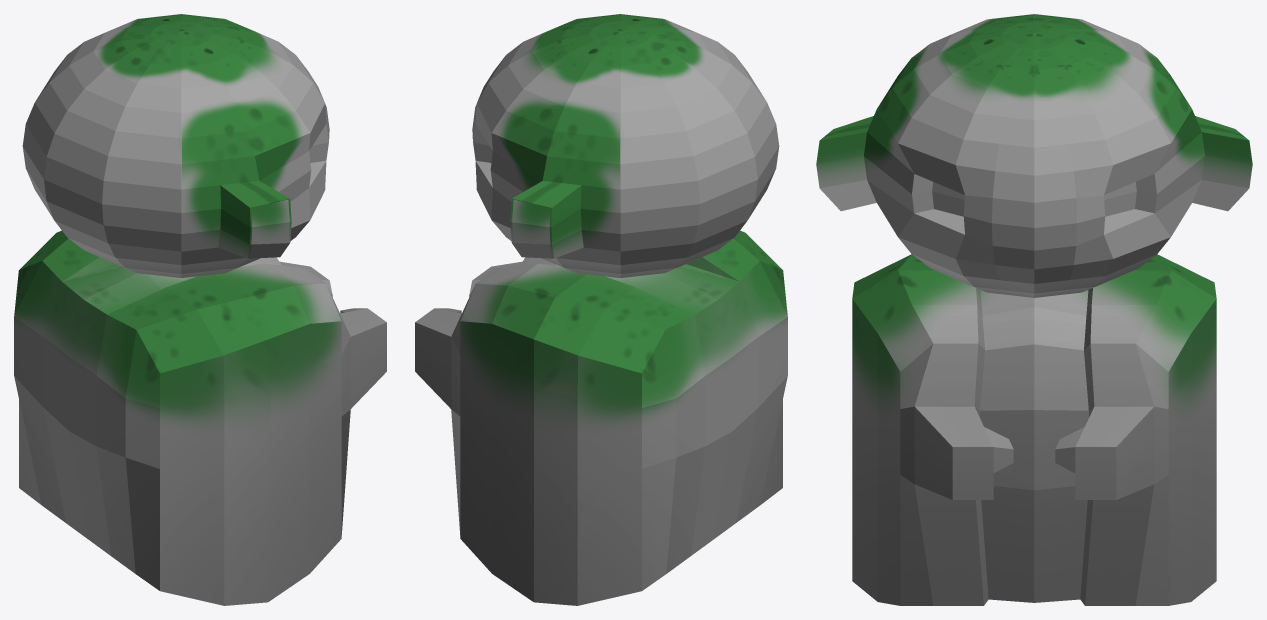
File: estatuamonge.fbx
3 views of the same model, side by side, from view 1: azimuth 30°, elevation 25°; view 2: azimuth 150°, elevation 25°; view 3: azimuth 270°, elevation 25° (orthographic). The views are drawn at different scales.
Visible parts, largest first — view 1: Cube; view 2: Cube; view 3: Cube.
Boxes of the visible parts, x1,y1,x2,y2 form: Cube: (14,14,386,605); Cube: (415,14,787,605); Cube: (816,14,1252,605).
Bounding box in the file's own units: 222 × 354 × 256.
1 material, 1 textured.
